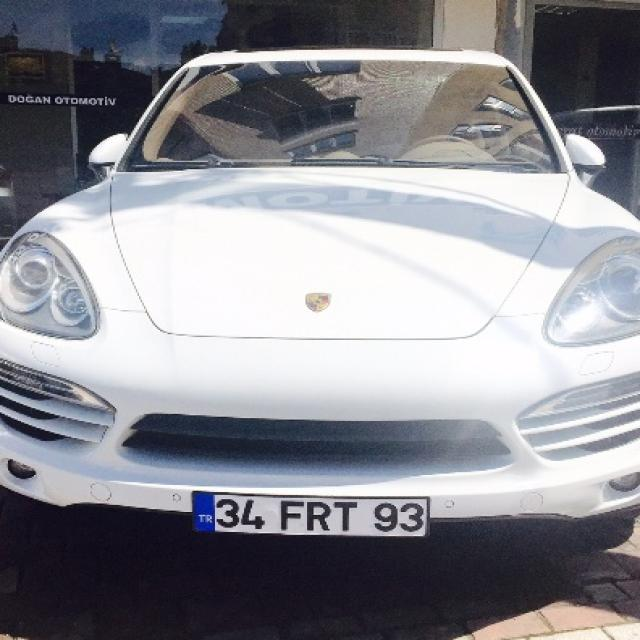license_plate: (189, 492, 428, 536)
